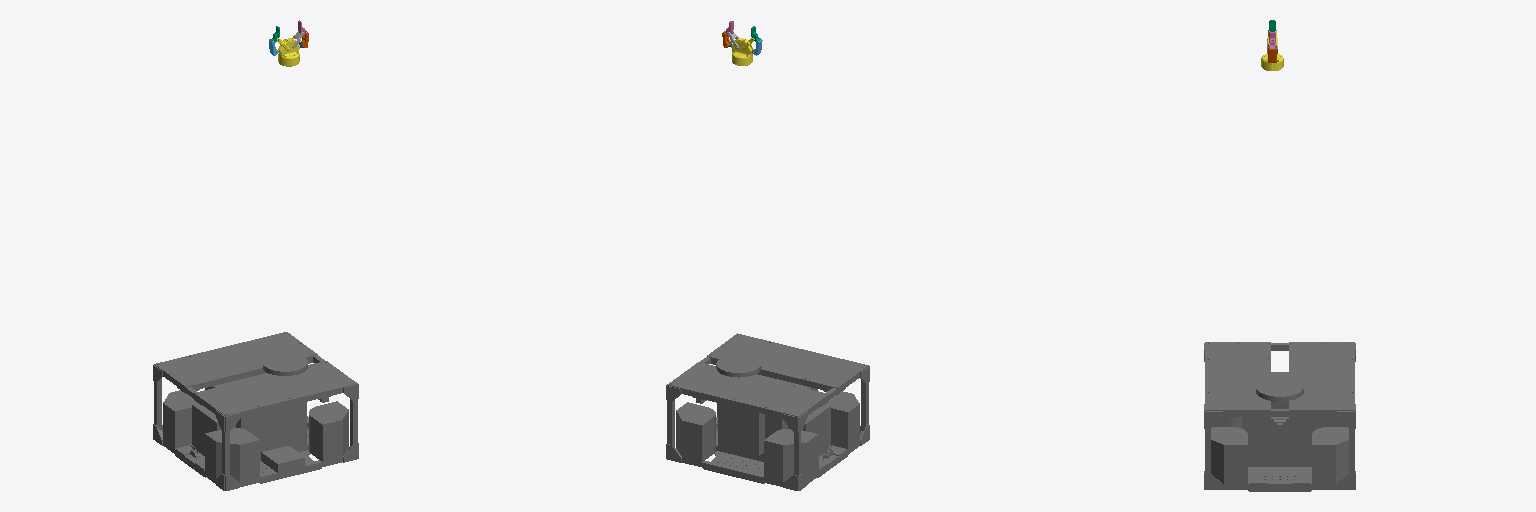
URDF robot description (tidybot):
<?xml version="1.0" ?>
<robot name="tidybot">
  <link name="world"/>
  <link name="base">
    <inertial>
      <origin rpy="0 0 0" xyz="0 0 0"/>
      <mass value="34"/>
      <inertia ixx="1e-09" ixy="0" ixz="0" iyy="1e-09" iyz="0" izz="1e-09"/>
    </inertial>
    <!-- Part kinova -->
    <visual>
      <origin rpy="0 -0 0" xyz="-0.3066 0.06523 0.085"/>
      <geometry>
        <mesh filename="../meshes/base/tidybot++/Kinova.stl"/>
      </geometry>
      <material name="grey">
        <color rgba="0.5 0.5 0.5 1"/>
      </material>
    </visual>
    <collision>
      <origin rpy="0 -0 0" xyz="-0.3066 0.06523 0.085"/>
      <geometry>
        <mesh filename="../meshes/base/tidybot++/Kinova.stl"/>
      </geometry>
    </collision>
  </link>
  <link name="base_camera_link"/>
  <joint name="base_camera_joint" type="fixed">
    <origin rpy="0 0.7853981634 0" xyz="0.2525 0.0 0.315"/>
    <parent link="base"/>
    <child link="base_camera_link"/>
    <visual>
      <origin rpy="0 0 0" xyz="0.2285 0.0 0.315"/>
      <geometry>
        <box size="0.1 0.1 0.1"/>
      </geometry>
      <material name="red">
        <color rgba="1 0 0 1"/>
      </material>
    </visual>
  </joint>
  <link name="joint_x_jointbody">
    <inertial>
      <origin rpy="0.0 0.0 0.0" xyz="0.0 0.0 0.0"/>
      <mass value="0.001"/>
      <inertia ixx="1e-09" ixy="0" ixz="0" iyy="1e-09" iyz="0" izz="1e-09"/>
    </inertial>
  </link>
  <joint name="joint_x" type="prismatic">
    <origin rpy="0.0 0.0 0.0" xyz="0.0 0.0 0.085"/>
    <parent link="world"/>
    <child link="joint_x_jointbody"/>
    <axis xyz="1 0 0"/>
    <limit effort="100" lower="-10.0" upper="10.0" velocity="1"/>
    <dynamics damping="1.0" friction="1.0"/>
  </joint>
  <link name="joint_y_jointbody">
    <inertial>
      <origin rpy="0.0 0.0 0.0" xyz="0.0 0.0 0.0"/>
      <mass value="0.001"/>
      <inertia ixx="1e-09" ixy="0" ixz="0" iyy="1e-09" iyz="0" izz="1e-09"/>
    </inertial>
  </link>
  <joint name="joint_y" type="prismatic">
    <origin rpy="0.0 0.0 0.0" xyz="0.0 0.0 0.0"/>
    <parent link="joint_x_jointbody"/>
    <child link="joint_y_jointbody"/>
    <axis xyz="0 1 0"/>
    <limit effort="100" lower="-10.0" upper="10.0" velocity="1"/>
    <dynamics damping="1.0" friction="1.0"/>
  </joint>
  <link name="joint_th_jointbody">
    <inertial>
      <origin rpy="0.0 0.0 0.0" xyz="0.0 0.0 0.0"/>
      <mass value="0.001"/>
      <inertia ixx="1e-09" ixy="0" ixz="0" iyy="1e-09" iyz="0" izz="1e-09"/>
    </inertial>
  </link>
  <joint name="joint_th" type="revolute">
    <origin rpy="0.0 0.0 0.0" xyz="0.0 0.0 0.0"/>
    <parent link="joint_y_jointbody"/>
    <child link="joint_th_jointbody"/>
    <axis xyz="0.0 0.0 1.0"/>
    <limit effort="100" lower="-10" upper="10" velocity="1"/>
    <dynamics damping="1.0" friction="1.0"/>
  </joint>
  <joint name="joint_th_offset" type="fixed">
    <origin rpy="0.0 0.0 0.0" xyz="-0.0 -0.0 -0.0"/>
    <parent link="joint_th_jointbody"/>
    <child link="base"/>
    <axis xyz="0.0 0.0 1.0"/>
    <limit effort="100" lower="0.0" upper="0.0" velocity="100"/>
  </joint>
  <material name="grey">
    <color rgba="0.5 0.5 0.5 1"/>
  </material>
  <joint name="arm_base_joint" type="fixed">
    <origin rpy="0 0 0" xyz="0.12 3.76986e-15 0.374775"/>
    <parent link="base"/>
    <child link="arm_base_link"/>
  </joint>
  <link name="arm_base_link">
    <inertial>
      <origin rpy="0 0 0" xyz="-0.000648 -0.000166 0.084487"/>
      <mass value="1.697"/>
      <inertia ixx="0.004622" ixy="9E-06" ixz="6E-05" iyy="0.004495" iyz="9E-06" izz="0.002079"/>
    </inertial>
    <visual>
      <origin rpy="0 0 0" xyz="0 0 0"/>
      <geometry>
        <mesh filename="../meshes/arms/gen3_7dof/base_link.STL"/>
      </geometry>
      <material name="">
        <color rgba="0.75294 0.75294 0.75294 1"/>
      </material>
    </visual>
    <collision>
      <origin rpy="0 0 0" xyz="0 0 0"/>
      <geometry>
        <mesh filename="../meshes/arms/gen3_7dof/base_link.STL"/>
      </geometry>
    </collision>
  </link>
  <link name="shoulder_link">
    <inertial>
      <origin rpy="0 0 0" xyz="-2.3E-05 -0.010364 -0.07336"/>
      <mass value="1.3773"/>
      <inertia ixx="0.00457" ixy="1E-06" ixz="2E-06" iyy="0.004831" iyz="0.000448" izz="0.001409"/>
    </inertial>
    <visual>
      <origin rpy="0 0 0" xyz="0 0 0"/>
      <geometry>
        <mesh filename="../meshes/arms/gen3_7dof/shoulder_link.STL"/>
      </geometry>
      <material name="">
        <color rgba="0.75294 0.75294 0.75294 1"/>
      </material>
    </visual>
    <collision>
      <origin rpy="0 0 0" xyz="0 0 0"/>
      <geometry>
        <mesh filename="../meshes/arms/gen3_7dof/shoulder_link.STL"/>
      </geometry>
    </collision>
  </link>
  <gazebo reference="shoulder_link">
    <material>Gazebo/Gray</material>
  </gazebo>
  <joint name="joint_1" type="continuous">
    <origin rpy="3.1416 2.7629E-18 -4.9305E-36" xyz="0 0 0.15643"/>
    <parent link="arm_base_link"/>
    <child link="shoulder_link"/>
    <axis xyz="0 0 1"/>
    <limit effort="39" velocity="1.3963"/>
  </joint>
  <link name="half_arm_1_link">
    <inertial>
      <origin rpy="0 0 0" xyz="-4.4E-05 -0.09958 -0.013278"/>
      <mass value="1.1636"/>
      <inertia ixx="0.011088" ixy="5E-06" ixz="0" iyy="0.001072" iyz="-0.000691" izz="0.011255"/>
    </inertial>
    <visual>
      <origin rpy="0 0 0" xyz="0 0 0"/>
      <geometry>
        <mesh filename="../meshes/arms/gen3_7dof/half_arm_1_link.STL"/>
      </geometry>
      <material name="">
        <color rgba="0.75294 0.75294 0.75294 1"/>
      </material>
    </visual>
    <collision>
      <origin rpy="0 0 0" xyz="0 0 0"/>
      <geometry>
        <mesh filename="../meshes/arms/gen3_7dof/half_arm_1_link.STL"/>
      </geometry>
    </collision>
  </link>
  <joint name="joint_2" type="revolute">
    <origin rpy="1.5708 2.1343E-17 -1.1102E-16" xyz="0 0.005375 -0.12838"/>
    <parent link="shoulder_link"/>
    <child link="half_arm_1_link"/>
    <axis xyz="0 0 1"/>
    <limit effort="39" lower="-2.24" upper="2.24" velocity="1.3963"/>
  </joint>
  <link name="half_arm_2_link">
    <inertial>
      <origin rpy="0 0 0" xyz="-4.4E-05 -0.006641 -0.117892"/>
      <mass value="1.1636"/>
      <inertia ixx="0.010932" ixy="0" ixz="-7E-06" iyy="0.011127" iyz="0.000606" izz="0.001043"/>
    </inertial>
    <visual>
      <origin rpy="0 0 0" xyz="0 0 0"/>
      <geometry>
        <mesh filename="../meshes/arms/gen3_7dof/half_arm_2_link.STL"/>
      </geometry>
      <material name="">
        <color rgba="0.75294 0.75294 0.75294 1"/>
      </material>
    </visual>
    <collision>
      <origin rpy="0 0 0" xyz="0 0 0"/>
      <geometry>
        <mesh filename="../meshes/arms/gen3_7dof/half_arm_2_link.STL"/>
      </geometry>
    </collision>
  </link>
  <joint name="joint_3" type="continuous">
    <origin rpy="-1.5708 1.2326E-32 -2.9122E-16" xyz="0 -0.21038 -0.006375"/>
    <parent link="half_arm_1_link"/>
    <child link="half_arm_2_link"/>
    <axis xyz="0 0 1"/>
    <limit effort="39" velocity="1.3963"/>
  </joint>
  <link name="forearm_link">
    <inertial>
      <origin rpy="0 0 0" xyz="-1.8E-05 -0.075478 -0.015006"/>
      <mass value="0.9302"/>
      <inertia ixx="0.008147" ixy="-1E-06" ixz="0" iyy="0.000631" iyz="-0.0005" izz="0.008316"/>
    </inertial>
    <visual>
      <origin rpy="0 0 0" xyz="0 0 0"/>
      <geometry>
        <mesh filename="../meshes/arms/gen3_7dof/forearm_link.STL"/>
      </geometry>
      <material name="">
        <color rgba="0.75294 0.75294 0.75294 1"/>
      </material>
    </visual>
    <collision>
      <origin rpy="0 0 0" xyz="0 0 0"/>
      <geometry>
        <mesh filename="../meshes/arms/gen3_7dof/forearm_link.STL"/>
      </geometry>
    </collision>
  </link>
  <joint name="joint_4" type="revolute">
    <origin rpy="1.5708 -6.6954E-17 -1.6653E-16" xyz="0 0.006375 -0.21038"/>
    <parent link="half_arm_2_link"/>
    <child link="forearm_link"/>
    <axis xyz="0 0 1"/>
    <limit effort="39" lower="-2.57" upper="2.57" velocity="1.3963"/>
  </joint>
  <link name="spherical_wrist_1_link">
    <inertial>
      <origin rpy="0 0 0" xyz="1E-06 -0.009432 -0.063883"/>
      <mass value="0.6781"/>
      <inertia ixx="0.001596" ixy="0" ixz="0" iyy="0.001607" iyz="0.000256" izz="0.000399"/>
    </inertial>
    <visual>
      <origin rpy="0 0 0" xyz="0 0 0"/>
      <geometry>
        <mesh filename="../meshes/arms/gen3_7dof/spherical_wrist_1_link.STL"/>
      </geometry>
      <material name="">
        <color rgba="0.75294 0.75294 0.75294 1"/>
      </material>
    </visual>
    <collision>
      <origin rpy="0 0 0" xyz="0 0 0"/>
      <geometry>
        <mesh filename="../meshes/arms/gen3_7dof/spherical_wrist_1_link.STL"/>
      </geometry>
    </collision>
  </link>
  <joint name="joint_5" type="continuous">
    <origin rpy="-1.5708 2.2204E-16 -6.373E-17" xyz="0 -0.20843 -0.006375"/>
    <parent link="forearm_link"/>
    <child link="spherical_wrist_1_link"/>
    <axis xyz="0 0 1"/>
    <limit effort="9" velocity="1.2218"/>
  </joint>
  <link name="spherical_wrist_2_link">
    <inertial>
      <origin rpy="0 0 0" xyz="1E-06 -0.045483 -0.00965"/>
      <mass value="0.6781"/>
      <inertia ixx="0.001641" ixy="0" ixz="0" iyy="0.00041" iyz="-0.000278" izz="0.001641"/>
    </inertial>
    <visual>
      <origin rpy="0 0 0" xyz="0 0 0"/>
      <geometry>
        <mesh filename="../meshes/arms/gen3_7dof/spherical_wrist_2_link.STL"/>
      </geometry>
      <material name="">
        <color rgba="0.75294 0.75294 0.75294 1"/>
      </material>
    </visual>
    <collision>
      <origin rpy="0 0 0" xyz="0 0 0"/>
      <geometry>
        <mesh filename="../meshes/arms/gen3_7dof/spherical_wrist_2_link.STL"/>
      </geometry>
    </collision>
  </link>
  <joint name="joint_6" type="revolute">
    <origin rpy="1.5708 9.2076E-28 -8.2157E-15" xyz="0 0.00017505 -0.10593"/>
    <parent link="spherical_wrist_1_link"/>
    <child link="spherical_wrist_2_link"/>
    <axis xyz="0 0 1"/>
    <limit effort="9" lower="-2.09" upper="2.09" velocity="1.2218"/>
  </joint>
  <link name="bracelet_link">
    <inertial>
      <origin rpy="0 0 0" xyz="0.000281 0.011402 -0.029798"/>
      <mass value="0.5"/>
      <inertia ixx="0.000587" ixy="3E-06" ixz="3E-06" iyy="0.000369" iyz="-0.000118" izz="0.000609"/>
    </inertial>
    <visual>
      <origin rpy="0 0 0" xyz="0 0 0"/>
      <geometry>
        <mesh filename="../meshes/arms/gen3_7dof/bracelet_with_vision_link.STL"/>
      </geometry>
      <material name="">
        <color rgba="0.75294 0.75294 0.75294 1"/>
      </material>
    </visual>
    <collision>
      <origin rpy="0 0 0" xyz="0 0 0"/>
      <geometry>
        <mesh filename="../meshes/arms/gen3_7dof/bracelet_with_vision_link.STL"/>
      </geometry>
    </collision>
  </link>
  <joint name="joint_7" type="continuous">
    <origin rpy="-1.5708 -5.5511E-17 9.6396E-17" xyz="0 -0.10593 -0.00017505"/>
    <parent link="spherical_wrist_2_link"/>
    <child link="bracelet_link"/>
    <axis xyz="0 0 1"/>
    <limit effort="9" velocity="1.2218"/>
  </joint>
  <link name="end_effector_link"/>
  <joint name="end_effector" type="fixed">
    <origin rpy="3.14159265358979 1.09937075168372E-32 0" xyz="0 0 -0.0615250000000001"/>
    <parent link="bracelet_link"/>
    <child link="end_effector_link"/>
    <axis xyz="0 0 0"/>
  </joint>
  <link name="arm_camera_link"/>
  <joint name="camera_module" type="fixed">
    <origin rpy="3.14159265358979 3.14159265358979 0" xyz="0 0.05639 -0.00405"/>
    <parent link="end_effector_link"/>
    <child link="arm_camera_link"/>
  </joint>
  <link name="camera_depth_frame"/>
  <joint name="depth_module" type="fixed">
    <origin rpy="3.14159265358979 3.14159265358979 0" xyz="0.0275 0.066 -0.00305"/>
    <parent link="end_effector_link"/>
    <child link="camera_depth_frame"/>
  </joint>
  <link name="camera_color_frame"/>
  <joint name="color_module" type="fixed">
    <origin rpy="3.14159265358979 3.14159265358979 0" xyz="0 0.05639 -0.00305"/>
    <parent link="end_effector_link"/>
    <child link="camera_color_frame"/>
  </joint>
  <!-- This line was removed by Kinova because we replaced the transmission file with our own 
    <xacro:include filename="$(find robotiq_2f_85_gripper_visualization)/urdf/robotiq_arg2f_transmission.xacro" /> -->
  <link name="tool_frame"/>
  <joint name="tool_frame_joint" type="fixed">
    <origin rpy="0 0 0" xyz="0 0 0.120"/>
    <parent link="end_effector_link"/>
    <child link="tool_frame"/>
    <axis xyz="0 0 0"/>
  </joint>
  <!-- This line was removed by Kinova because we replaced the transmission file with our own 
    <xacro:include filename="$(find robotiq_2f_85_gripper_visualization)/urdf/robotiq_arg2f_transmission.xacro" /> -->
  <!-- This joint was added by Kinova -->
  <joint name="gripper_base_joint" type="fixed">
    <parent link="end_effector_link"/>
    <child link="robotiq_arg2f_base_link"/>
    <origin xyz="0.0 0.0 0.0" rpy="3.1415927 -1.5707964 1.5707964"/>
  </joint>
  <!-- Robotiq 2F-85 Gripper - Simplified parallel-jaw gripper for Isaac Sim -->
  <!-- Base link (exported from Isaac Sim) -->
  <link name="robotiq_arg2f_base_link">
    <inertial>
      <origin xyz="0.0320809 0.0000006 0.0000228" rpy="0. 0. 0."/>
      <mass value="0.6098911"/>
      <inertia ixx="0.0004747" ixy="-0." ixz="0." iyy="0.0003629" iyz="0." izz="0.0005407"/>
    </inertial>
    <visual>
      <origin xyz="-0.000242 0. 0." rpy="0. 0. -1.5707964"/>
      <geometry>
        <mesh filename="../meshes/grippers/robotiq_2f_85/robotiq_arg2f_85_base_link.stl"/>
      </geometry>
    </visual>
    <collision>
      <origin xyz="-0.000242 0. 0." rpy="0. 0. -1.5707964"/>
      <geometry>
        <mesh filename="../meshes/grippers/robotiq_2f_85/robotiq_arg2f_85_base_link.stl"/>
      </geometry>
    </collision>
  </link>
  <!-- Left side links -->
  <link name="left_outer_knuckle">
    <inertial>
      <origin xyz="-0.012132 -0.000586 0." rpy="0. 0. 0."/>
      <mass value="0.0127346"/>
      <inertia ixx="0.0000003" ixy="0." ixz="0." iyy="0.0000021" iyz="0." izz="0.0000021"/>
    </inertial>
    <visual>
      <origin xyz="0.0292492 -0.0556365 0." rpy="0. 0. -0.0244589"/>
      <geometry>
        <mesh filename="../meshes/grippers/robotiq_2f_85/robotiq_arg2f_85_outer_knuckle.stl"/>
      </geometry>
    </visual>
    <collision>
      <origin xyz="0.0292492 -0.0556365 0." rpy="0. 0. -0.0244589"/>
      <geometry>
        <mesh filename="../meshes/grippers/robotiq_2f_85/robotiq_arg2f_85_outer_knuckle.stl"/>
      </geometry>
    </collision>
  </link>
  <link name="left_outer_finger">
    <inertial>
      <origin xyz="-0.0039245 -0.0185808 -0.0000055" rpy="0. 0. 0."/>
      <mass value="0.0391792"/>
      <inertia ixx="0.0000043" ixy="0." ixz="-0." iyy="0.0000109" iyz="-0." izz="0.0000132"/>
    </inertial>
    <visual>
      <origin xyz="0.062026 0.0503723 0." rpy="-3.1415927 0. 0."/>
      <geometry>
        <mesh filename="../meshes/grippers/robotiq_2f_85/robotiq_arg2f_85_outer_finger.stl"/>
      </geometry>
    </visual>
    <collision>
      <origin xyz="0.062026 0.0503723 0." rpy="-3.1415927 0. 0."/>
      <geometry>
        <mesh filename="../meshes/grippers/robotiq_2f_85/robotiq_arg2f_85_outer_finger.stl"/>
      </geometry>
    </collision>
  </link>
  <link name="left_inner_finger">
    <inertial>
      <origin xyz="0.0189383 -0.0286037 -0.0133" rpy="0. 0. 0."/>
      <mass value="0.0197616"/>
      <inertia ixx="0.000001" ixy="0." ixz="-0." iyy="0.0000028" iyz="-0." izz="0.0000032"/>
    </inertial>
    <visual>
      <origin xyz="0.071171 0.0956936 -0.0133" rpy="3.1415927 0. -0.0244594"/>
      <geometry>
        <mesh filename="../meshes/grippers/robotiq_2f_85/robotiq_arg2f_85_inner_finger.stl"/>
      </geometry>
    </visual>
    <visual>
      <origin xyz="0.071171 0.0956936 -0.0133" rpy="3.1415927 0. -0.0244594"/>
      <geometry>
        <mesh filename="../meshes/grippers/robotiq_2f_85/robotiq_arg2f_85_pad.stl"/>
      </geometry>
    </visual>
    <collision>
      <origin xyz="0.071171 0.0956936 -0.0133" rpy="3.1415927 0. -0.0244594"/>
      <geometry>
        <mesh filename="../meshes/grippers/robotiq_2f_85/robotiq_arg2f_85_inner_finger.stl"/>
      </geometry>
    </collision>
    <collision>
      <origin xyz="0.071171 0.0956936 -0.0133" rpy="3.1415927 0. -0.0244594"/>
      <geometry>
        <mesh filename="../meshes/grippers/robotiq_2f_85/robotiq_arg2f_85_pad.stl"/>
      </geometry>
    </collision>
  </link>
  <!-- Inner knuckles: collision removed to break closed-loop kinematics -->
  <link name="left_inner_knuckle">
    <inertial>
      <origin xyz="0.0181803 -0.0209509 0." rpy="0. 0. 0."/>
      <mass value="0.0273069"/>
      <inertia ixx="0.0000045" ixy="0.0000001" ixz="0." iyy="0.000008" iyz="0." izz="0.0000118"/>
    </inertial>
    <visual>
      <origin xyz="0.0483511 -0.1051343 0." rpy="0. 0. -0.0244597"/>
      <geometry>
        <mesh filename="../meshes/grippers/robotiq_2f_85/robotiq_arg2f_85_inner_knuckle.stl"/>
      </geometry>
    </visual>
    <!-- Collision removed - allows direct joint control without kinematic loop -->
  </link>
  <!-- Right side links -->
  <link name="right_outer_knuckle">
    <inertial>
      <origin xyz="0.012132 0.000586 0." rpy="0. 0. 0."/>
      <mass value="0.0127346"/>
      <inertia ixx="0.0000003" ixy="0." ixz="-0." iyy="0.0000021" iyz="0." izz="0.0000021"/>
    </inertial>
    <visual>
      <origin xyz="-0.0292492 0.0556365 0." rpy="0. 0. 3.1171339"/>
      <geometry>
        <mesh filename="../meshes/grippers/robotiq_2f_85/robotiq_arg2f_85_outer_knuckle.stl"/>
      </geometry>
    </visual>
    <collision>
      <origin xyz="-0.0292492 0.0556365 0." rpy="0. 0. 3.1171339"/>
      <geometry>
        <mesh filename="../meshes/grippers/robotiq_2f_85/robotiq_arg2f_85_outer_knuckle.stl"/>
      </geometry>
    </collision>
  </link>
  <link name="right_outer_finger">
    <inertial>
      <origin xyz="-0.0039245 -0.0185808 -0.0000055" rpy="0. 0. 0."/>
      <mass value="0.0391792"/>
      <inertia ixx="0.0000043" ixy="0." ixz="-0." iyy="0.0000109" iyz="-0." izz="0.0000132"/>
    </inertial>
    <visual>
      <origin xyz="0.062026 0.0503723 0." rpy="3.1415927 0. 0."/>
      <geometry>
        <mesh filename="../meshes/grippers/robotiq_2f_85/robotiq_arg2f_85_outer_finger.stl"/>
      </geometry>
    </visual>
    <collision>
      <origin xyz="0.062026 0.0503723 0." rpy="3.1415927 0. 0."/>
      <geometry>
        <mesh filename="../meshes/grippers/robotiq_2f_85/robotiq_arg2f_85_outer_finger.stl"/>
      </geometry>
    </collision>
  </link>
  <link name="right_inner_finger">
    <inertial>
      <origin xyz="0.0189383 0.0286037 -0.0133" rpy="0. 0. 0."/>
      <mass value="0.0197616"/>
      <inertia ixx="0.000001" ixy="-0." ixz="0." iyy="0.0000028" iyz="0." izz="0.0000032"/>
    </inertial>
    <visual>
      <origin xyz="0.071171 -0.0956936 -0.0133" rpy="0. 0. 0.0244594"/>
      <geometry>
        <mesh filename="../meshes/grippers/robotiq_2f_85/robotiq_arg2f_85_inner_finger.stl"/>
      </geometry>
    </visual>
    <visual>
      <origin xyz="0.071171 -0.0956936 -0.0133" rpy="0. 0. 0.0244594"/>
      <geometry>
        <mesh filename="../meshes/grippers/robotiq_2f_85/robotiq_arg2f_85_pad.stl"/>
      </geometry>
    </visual>
    <collision>
      <origin xyz="0.071171 -0.0956936 -0.0133" rpy="0. 0. 0.0244594"/>
      <geometry>
        <mesh filename="../meshes/grippers/robotiq_2f_85/robotiq_arg2f_85_inner_finger.stl"/>
      </geometry>
    </collision>
    <collision>
      <origin xyz="0.071171 -0.0956936 -0.0133" rpy="0. 0. 0.0244594"/>
      <geometry>
        <mesh filename="../meshes/grippers/robotiq_2f_85/robotiq_arg2f_85_pad.stl"/>
      </geometry>
    </collision>
  </link>
  <link name="right_inner_knuckle">
    <inertial>
      <origin xyz="0.0181803 -0.0209509 0." rpy="0. 0. 0."/>
      <mass value="0.0273069"/>
      <inertia ixx="0.0000045" ixy="0.0000001" ixz="-0." iyy="0.000008" iyz="-0." izz="0.0000118"/>
    </inertial>
    <visual>
      <origin xyz="0.0483511 -0.1051343 0." rpy="0. 0. -0.0244597"/>
      <geometry>
        <mesh filename="../meshes/grippers/robotiq_2f_85/robotiq_arg2f_85_inner_knuckle.stl"/>
      </geometry>
    </visual>
    <!-- Collision removed - allows direct joint control without kinematic loop -->
  </link>
  <!-- Left outer knuckle joint (leader) -->
  <joint name="finger_joint" type="revolute">
    <origin xyz="0.0546625 0.0306011 0." rpy="0. 0. -1.5707964"/>
    <parent link="robotiq_arg2f_base_link"/>
    <child link="left_outer_knuckle"/>
    <axis xyz="0. 0. -1."/>
    <limit lower="0." upper="0.8203047" effort="26." velocity="2.5562093"/>
  </joint>
  <!-- Left outer finger (revolute for Isaac Sim spring mechanism) -->
  <joint name="left_outer_finger_joint" type="revolute">
    <origin xyz="-0.0315263 -0.0037623 0." rpy="3.1415927 0. -0.0244589"/>
    <parent link="left_outer_knuckle"/>
    <child link="left_outer_finger"/>
    <axis xyz="0 0 1"/>
    <limit lower="-1.57" upper="0" effort="100" velocity="100"/>
  </joint>
  <!-- Left inner finger joint -->
  <joint name="left_inner_finger_joint" type="revolute">
    <origin xyz="-0.0067834 -0.0470334 0.0133" rpy="0. 0. 0."/>
    <parent link="left_outer_finger"/>
    <child link="left_inner_finger"/>
    <axis xyz="0. 0. 1."/>
    <limit lower="-3.1415927" upper="3.1415927" effort="0." velocity="174.5329252"/>
  </joint>
  <!-- Left inner knuckle joint (connects inner finger to inner knuckle -->
  <joint name="left_inner_finger_knuckle_joint" type="revolute">
    <origin xyz="0.0177368 -0.0069505 -0.0133" rpy="3.1415927 0. -0.0244594"/>
    <parent link="left_inner_finger"/>
    <child link="left_inner_knuckle"/>
    <axis xyz="0. 0. 1."/>
    <limit lower="-3.1415927" upper="3.1415927" effort="0." velocity="174.5329252"/>
  </joint>
  <!-- Right outer knuckle joint -->
  <joint name="right_outer_knuckle_joint" type="revolute">
    <origin xyz="0.0546625 -0.0306011 0." rpy="3.1415927 0. -1.5707964"/>
    <parent link="robotiq_arg2f_base_link"/>
    <child link="right_outer_knuckle"/>
    <axis xyz="0. 0. -1."/>
    <limit lower="0" upper="0.8203047" effort="26." velocity="2.5562093"/>
  </joint>
  <!-- Right outer finger (revolute for Isaac Sim spring mechanism) -->
  <joint name="right_outer_finger_joint" type="revolute">
    <origin xyz="0.0315263 0.0037623 0." rpy="3.1415927 0. 3.1171336"/>
    <parent link="right_outer_knuckle"/>
    <child link="right_outer_finger"/>
    <axis xyz="0 0 1"/>
    <limit lower="-1.57" upper="0" effort="100" velocity="100"/>
  </joint>
  <!-- Right inner finger joint -->
  <joint name="right_inner_finger_joint" type="revolute">
    <origin xyz="-0.0067834 -0.0470334 -0.0133" rpy="3.1415927 0. 0."/>
    <parent link="right_outer_finger"/>
    <child link="right_inner_finger"/>
    <axis xyz="0. 0. 1."/>
    <limit lower="-3.1415927" upper="3.1415927" effort="0." velocity="174.5329252"/>
  </joint>
  <!-- Right inner knuckle joint -->
  <joint name="right_inner_finger_knuckle_joint" type="revolute">
    <origin xyz="0.0177368 0.0069505 -0.0133" rpy="0. 0. 0.0244594"/>
    <parent link="right_inner_finger"/>
    <child link="right_inner_knuckle"/>
    <axis xyz="0. 0. 1."/>
    <limit lower="-3.1415927" upper="3.1415927" effort="0." velocity="174.5329252"/>
  </joint>
</robot>

--- Facts derived from the render (not from the file) ---
3 views of the same robot in one strip: view 1: azimuth 30°, elevation 25°; view 2: azimuth 150°, elevation 25°; view 3: azimuth 270°, elevation 25° (orthographic).
Model tidybot with 28 links and 27 joints (12 revolute, 4 continuous, 2 prismatic, 9 fixed), rooted at world, posed all joints at 0.
Visible links, largest first — view 1: base; view 2: base; view 3: base.
Link boxes in pixels (x1,y1,x2,y2): base: [153, 332, 358, 490]; base: [666, 333, 869, 490]; base: [1204, 342, 1355, 491].
Bounding box of the posed robot: 0.548 × 0.508 × 1.64 m (x, y, z).
Meshes: 15 distinct files referenced, 12 mesh visuals loaded (7 binary STL); not drawn: 8 (reference not matched to a file when rendering).
